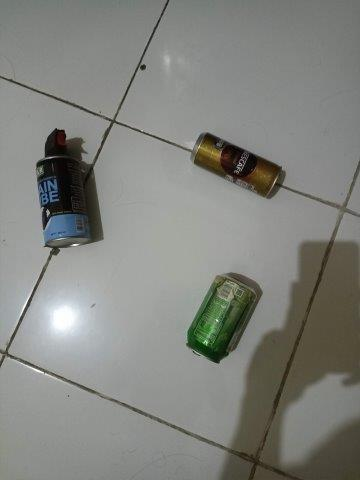kaleng: (185, 273, 257, 364), (191, 133, 283, 198), (36, 155, 90, 249)
